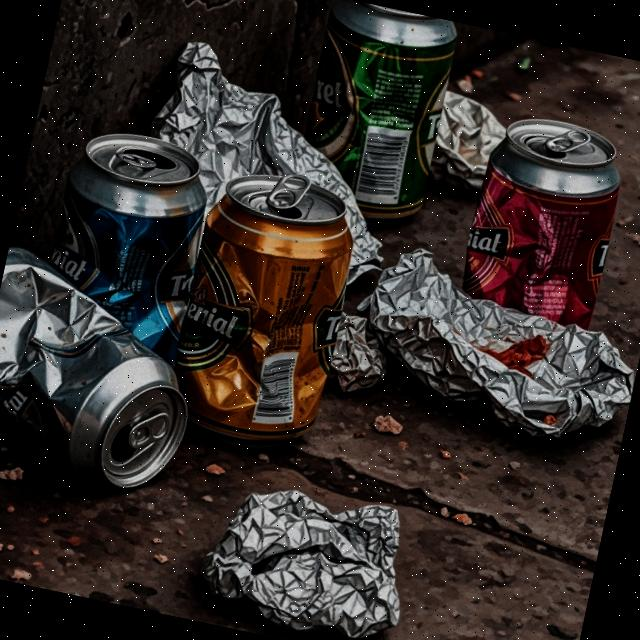aluminum: (123, 32, 420, 316), (158, 154, 374, 460), (349, 236, 640, 461), (0, 242, 219, 507), (36, 119, 221, 364), (449, 105, 636, 336), (284, 0, 463, 231), (195, 468, 427, 640)
